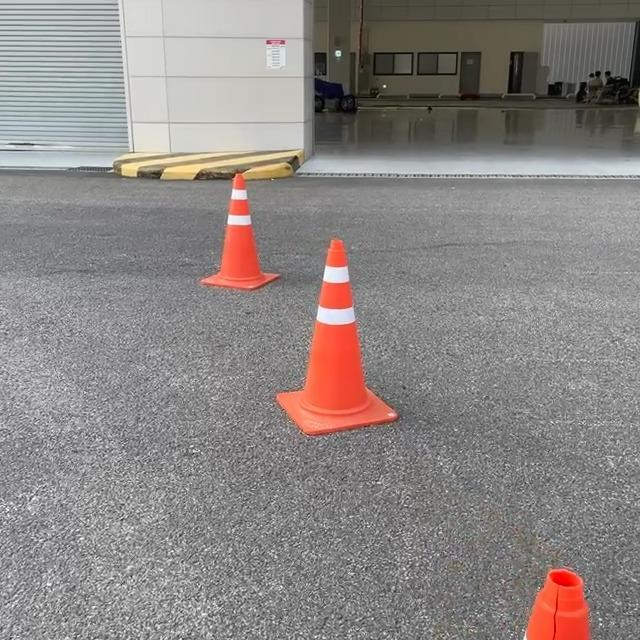fallen_object: (271, 217, 422, 459), (155, 150, 285, 312), (500, 503, 603, 640)
